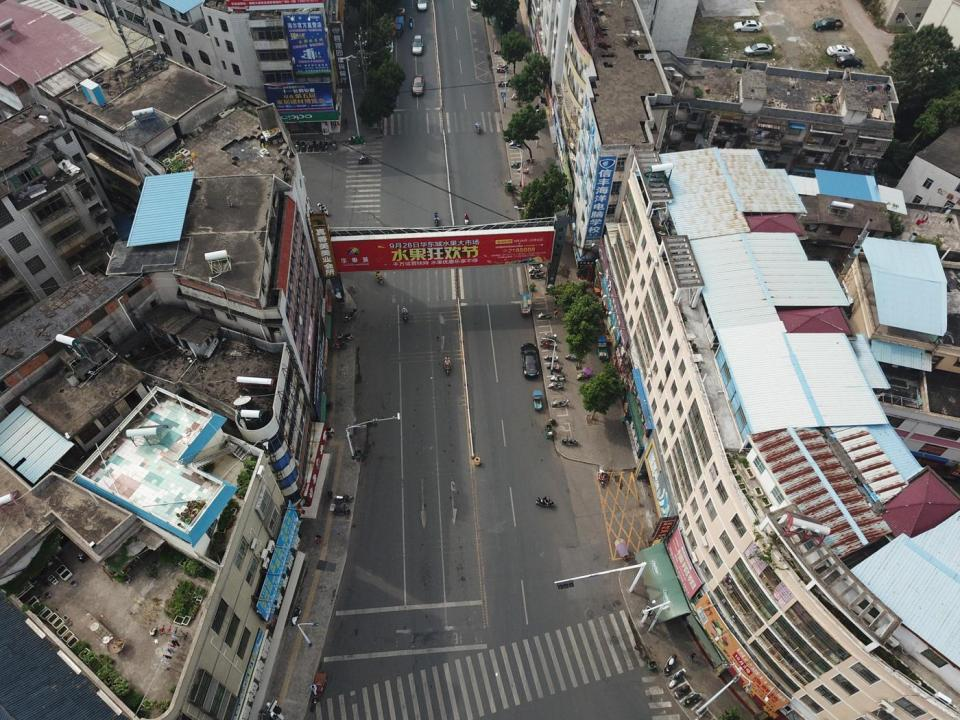car: (520, 342, 539, 378), (734, 18, 762, 33), (835, 55, 863, 68), (744, 43, 772, 56), (828, 44, 855, 56), (416, 0, 426, 12)
truck: (813, 18, 844, 32)
van: (412, 75, 424, 95), (412, 35, 423, 55)
